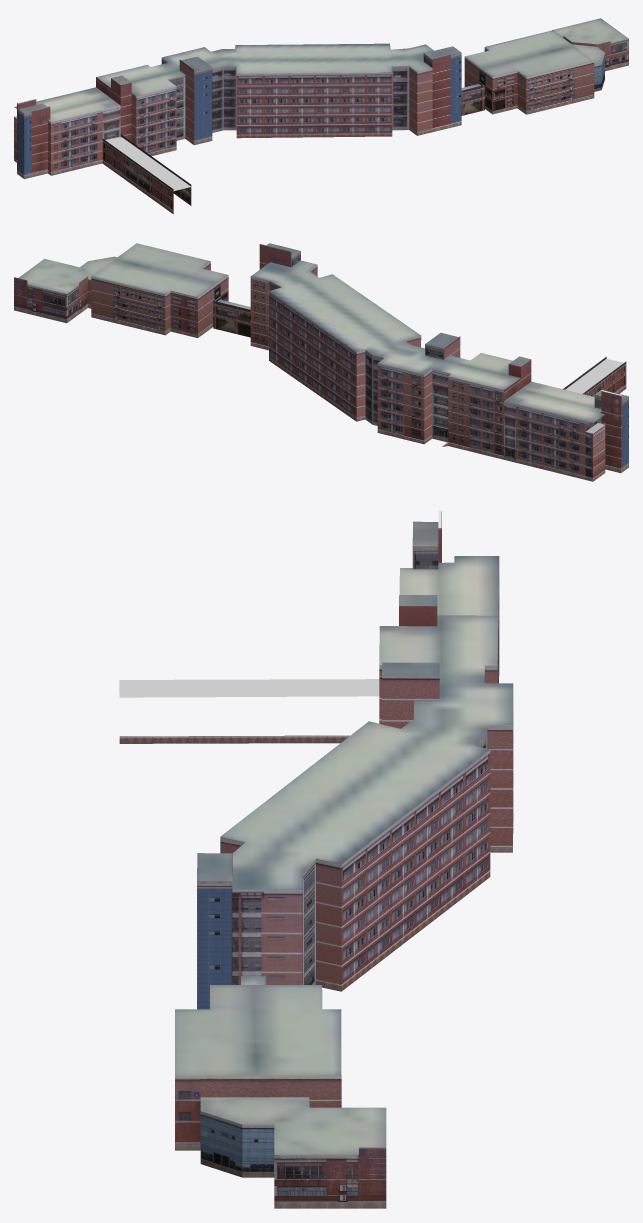
Rendered from jxl_e.gltf.
3 views of the same model, one above another, from view 1: azimuth 30°, elevation 25°; view 2: azimuth 150°, elevation 25°; view 3: azimuth 270°, elevation 25° (orthographic). The views are drawn at different scales.
Visible parts, largest first — view 1: Mesh01#21, Mesh04#14; view 2: Mesh01#21, Mesh04#14; view 3: Mesh01#21, Mesh04#14.
Boxes of the visible parts, left/top/right/bottom form: Mesh01#21: left=14, top=43, right=461, bottom=214; Mesh04#14: left=461, top=18, right=628, bottom=115; Mesh01#21: left=250, top=243, right=628, bottom=481; Mesh04#14: left=14, top=243, right=250, bottom=337; Mesh01#21: left=119, top=510, right=513, bottom=1009; Mesh04#14: left=175, top=976, right=386, bottom=1208.
Size of the model in its own units: 0.2056 by 0.0275 by 0.0632.
Materials: 12 (8 with a texture image).
